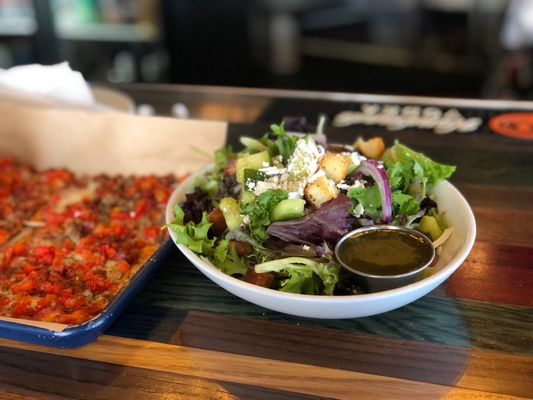curry: (381, 140, 457, 200), (256, 256, 340, 296), (239, 188, 289, 244)
sushi: (165, 119, 476, 319), (334, 225, 436, 293)
